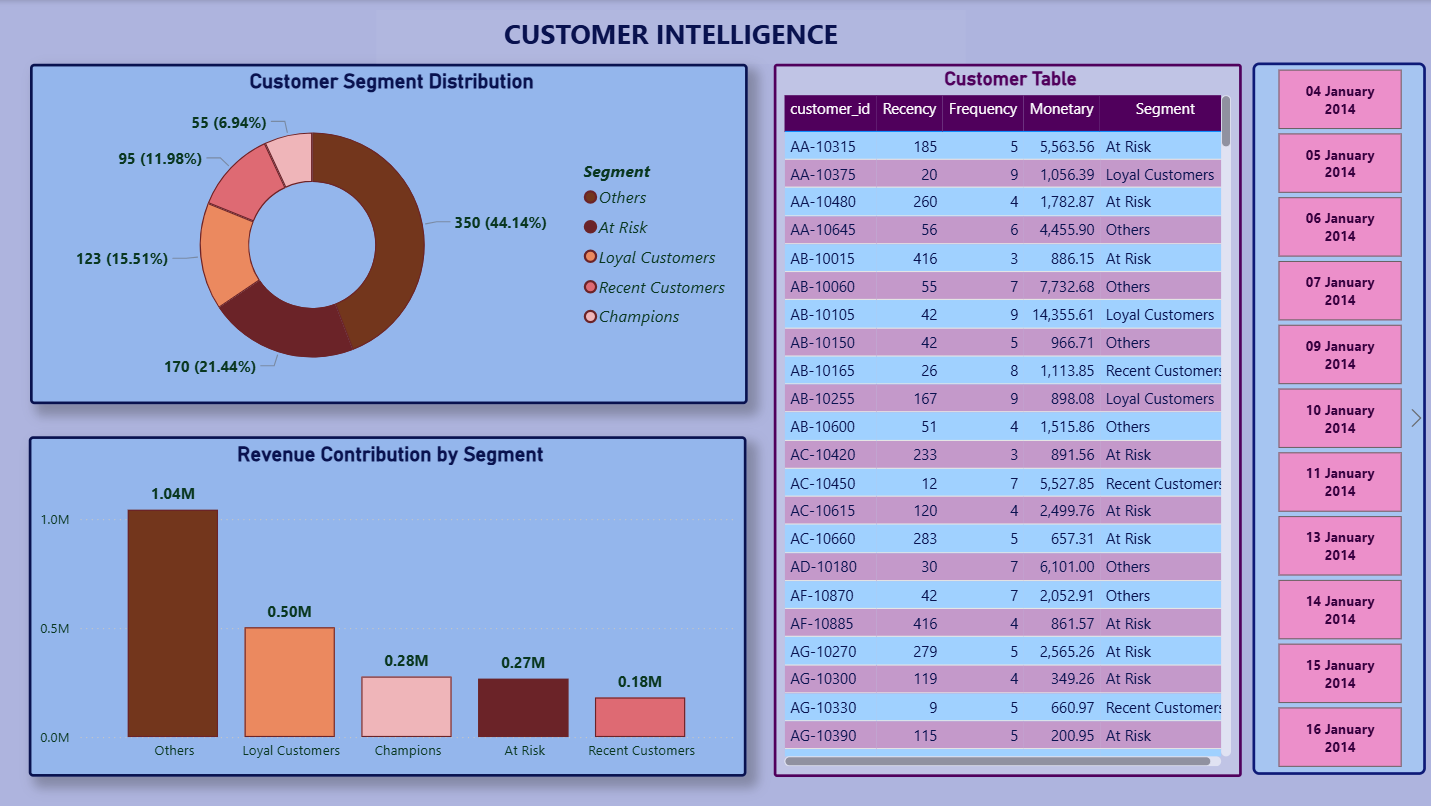

This screenshot's page, from the dashboard's own definition file:
{"tool":"powerbi","page":{"name":"Page 4","canvas":[1280,720],"ordinal":3},"visuals":[{"type":"donutChart","title":"Customer Segment Distribution","fields":{"Category":["retail_analysis customer_rfm.Segment"],"Y":["CountNonNull(retail_analysis customer_rfm.customer_id)"]},"box":[26.5,56.7,639.4,302.8],"z":0},{"type":"textbox","box":[335.4,8.4,524.8,48.3],"z":1},{"type":"clusteredColumnChart","title":"Revenue Contribution by Segment","fields":{"Category":["retail_analysis customer_rfm.Segment"],"Y":["Sum(retail_analysis orders.sales)"]},"box":[26.1,388.3,639.5,303.3],"z":2},{"type":"tableEx","title":"Customer Table","fields":{"Values":["retail_analysis customer_rfm.customer_id","retail_analysis customer_rfm.Recency","retail_analysis customer_rfm.Frequency","retail_analysis customer_rfm.Monetary","retail_analysis customer_rfm.Segment"]},"box":[688.9,56.3,417.2,635.3],"z":3},{"type":"slicer","fields":{"Values":["retail_analysis orders.order_date"]},"box":[1116,55.5,154.4,634.6],"z":4}]}

Visuals, with their boxes in screenshot pixels (x1, y1, x2, y2), scaled from the page's 1280x720 canvas onto the 1431x806 screenshot:
"Customer Segment Distribution" donutChart: box(30, 63, 744, 402)
textbox: box(375, 9, 962, 63)
"Revenue Contribution by Segment" clusteredColumnChart: box(29, 435, 744, 774)
"Customer Table" tableEx: box(770, 63, 1237, 774)
slicer - retail_analysis orders.order_date: box(1248, 62, 1420, 773)
